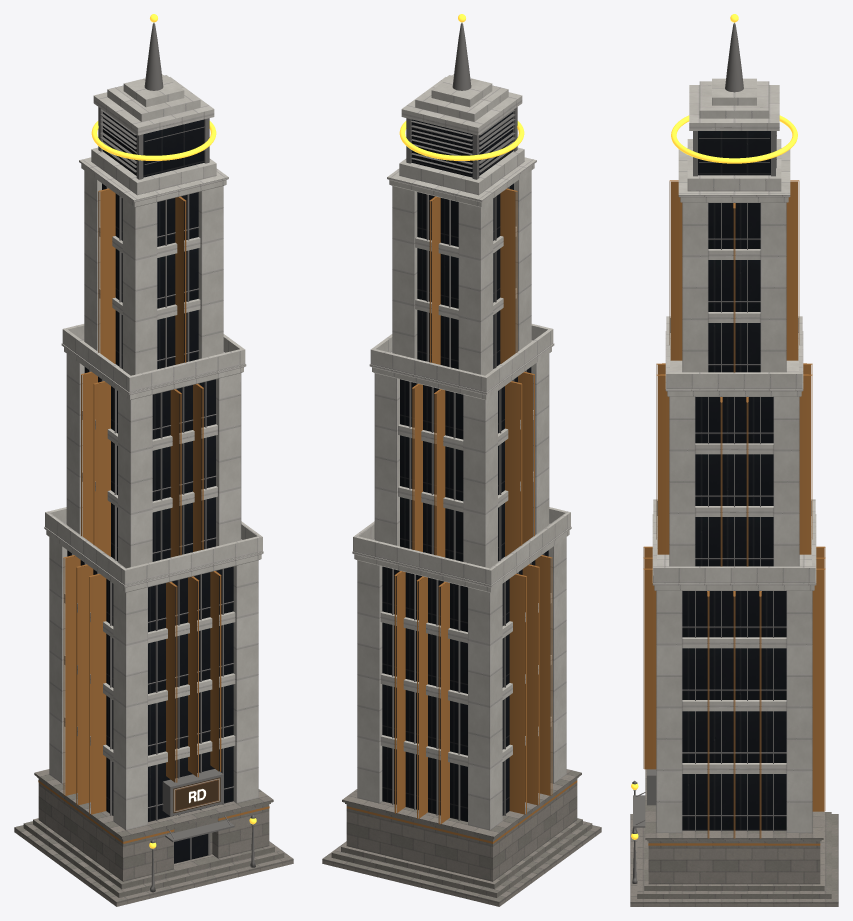
File: s15-romanbridge-dao.glb
3 views of the same model, side by side, from view 1: azimuth 30°, elevation 25°; view 2: azimuth 150°, elevation 25°; view 3: azimuth 270°, elevation 25° (orthographic).
Visible parts, largest first — view 1: Landmark · RomanBridge DAO (Series 15); view 2: Landmark · RomanBridge DAO (Series 15); view 3: Landmark · RomanBridge DAO (Series 15).
Boxes of the visible parts, x1,y1,x2,y2 form: Landmark · RomanBridge DAO (Series 15): (14,14,293,906); Landmark · RomanBridge DAO (Series 15): (322,14,601,906); Landmark · RomanBridge DAO (Series 15): (630,14,838,906).
Bounding box in the file's own units: 12 × 54 × 12.
Materials: 7 (4 with a texture image).
